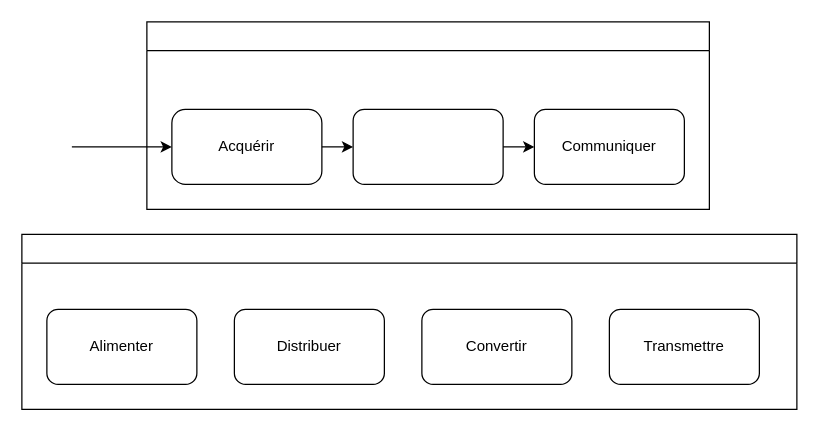
The diagram is 819 pixels wide and 431 high, and some of its shapes have lost their labels. Here are the shapes that lost their labels. From the top down, the box of each, then its label:
(146, 21, 709, 209): Chaine d'information
(352, 108, 503, 184): Traiter
(21, 233, 797, 409): Chaine d'énergie
